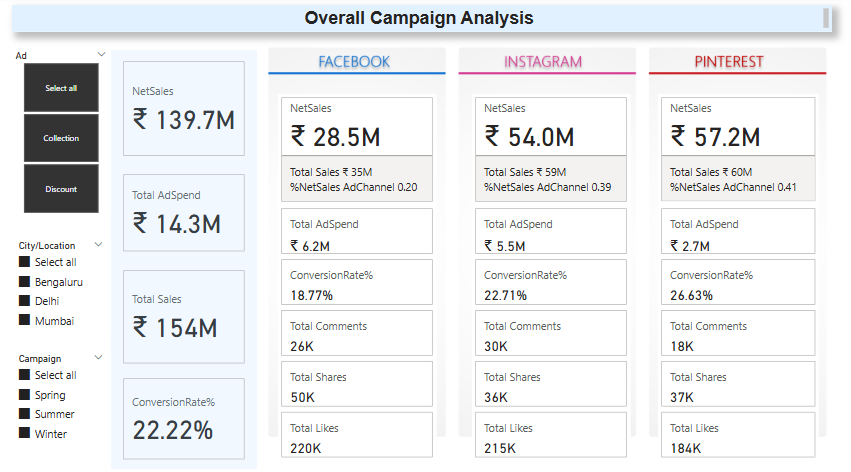

Layout of this report page (visuals, bound fields, positions):
{"tool":"powerbi","page":{"name":"Overall Campaign Analysis","canvas":[1280,720],"ordinal":0},"visuals":[{"type":"cardVisual","fields":{"Data":["_Measures.Total NetSales"]},"box":[183.1,92.4,191.5,151.2],"z":0},{"type":"image","box":[400.3,13.4,845.5,706.6],"z":1000},{"type":"cardVisual","fields":{"Data":["_Measures.Total AdSpend"]},"box":[183.1,262,191.5,126],"z":2000},{"type":"cardVisual","fields":{"Data":["_Measures.Total Sales"]},"box":[183.1,404.8,191.5,149.5],"z":3000},{"type":"cardVisual","fields":{"Data":["_Measures.Total NetSales"]},"box":[419.9,146.1,236.9,166.3],"z":4000},{"type":"cardVisual","fields":{"Data":["_Measures.Total NetSales"]},"box":[708.9,146.1,236.9,166.3],"z":5000},{"type":"cardVisual","fields":{"Data":["_Measures.Total NetSales"]},"box":[987.4,146.4,240.5,165.8],"z":6000},{"type":"cardVisual","fields":{"Data":["_Measures.Total AdSpend","_Measures.ConversionRate%","_Measures.Total Comments","_Measures.Total Shares","_Measures.Total Likes"]},"box":[419.9,312.4,236.9,384.7],"z":7000},{"type":"cardVisual","fields":{"Data":["_Measures.Total AdSpend","_Measures.ConversionRate%","_Measures.Total Comments","_Measures.Total Shares","_Measures.Total Likes"]},"box":[987.7,312.4,240.2,384.7],"z":8000},{"type":"cardVisual","fields":{"Data":["_Measures.Total AdSpend","_Measures.ConversionRate%","_Measures.Total Comments","_Measures.Total Shares","_Measures.Total Likes"]},"box":[708.9,312.4,236.9,384.7],"z":9000},{"type":"cardVisual","fields":{"Data":["_Measures.ConversionRate%"]},"box":[183.1,566.1,191.5,131],"z":10000},{"type":"textbox","box":[170.3,80.7,218.1,625.9],"z":11000},{"type":"textbox","box":[21.8,13.4,1224.6,40.3],"z":12000},{"type":"slicer","fields":{"Values":["Marketing Campaign - data.Ad"]},"box":[19.4,80.7,150.9,245],"z":13000},{"type":"slicer","fields":{"Values":["Marketing Campaign - data.City/Location"]},"box":[19.4,360,150.9,144.9],"z":14000},{"type":"slicer","fields":{"Values":["Marketing Campaign - data.Campaign"]},"box":[19.4,528.8,150.9,168.8],"z":15000}]}

Visuals, with their boxes in screenshot pixels (x1, y1, x2, y2), scaled from the page's 1280x720 canvas onto the 851x472 screenshot:
cardVisual - _Measures.Total NetSales: <region>122, 61, 249, 160</region>
image: <region>266, 9, 828, 471</region>
cardVisual - _Measures.Total AdSpend: <region>122, 172, 249, 254</region>
cardVisual - _Measures.Total Sales: <region>122, 265, 249, 363</region>
cardVisual - _Measures.Total NetSales: <region>279, 96, 437, 205</region>
cardVisual - _Measures.Total NetSales: <region>471, 96, 629, 205</region>
cardVisual - _Measures.Total NetSales: <region>656, 96, 816, 205</region>
cardVisual - _Measures.Total AdSpend x _Measures.ConversionRate%: <region>279, 205, 437, 457</region>
cardVisual - _Measures.Total AdSpend x _Measures.ConversionRate%: <region>657, 205, 816, 457</region>
cardVisual - _Measures.Total AdSpend x _Measures.ConversionRate%: <region>471, 205, 629, 457</region>
cardVisual - _Measures.ConversionRate%: <region>122, 371, 249, 457</region>
textbox: <region>113, 53, 258, 463</region>
textbox: <region>14, 9, 829, 35</region>
slicer - Marketing Campaign - data.Ad: <region>13, 53, 113, 214</region>
slicer - Marketing Campaign - data.City/Location: <region>13, 236, 113, 331</region>
slicer - Marketing Campaign - data.Campaign: <region>13, 347, 113, 457</region>
